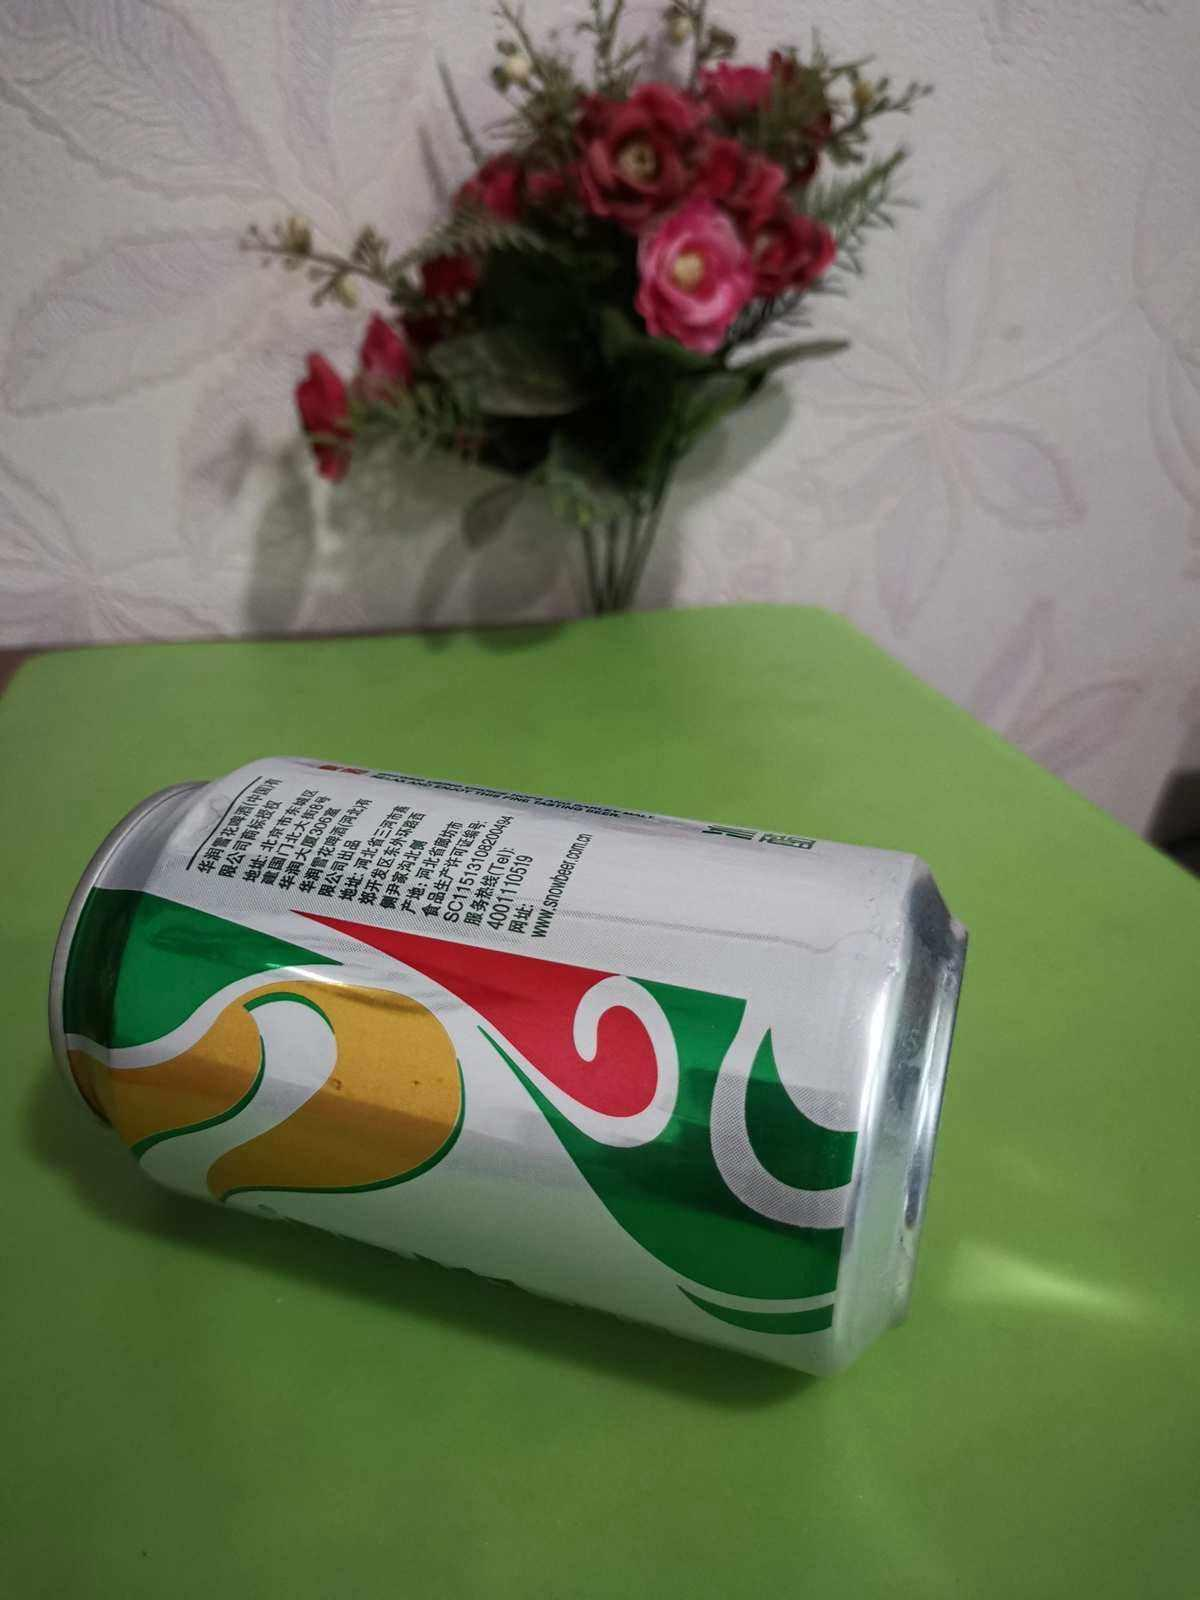paper: (0, 0, 1199, 821)
plastic: (51, 757, 965, 1372)
